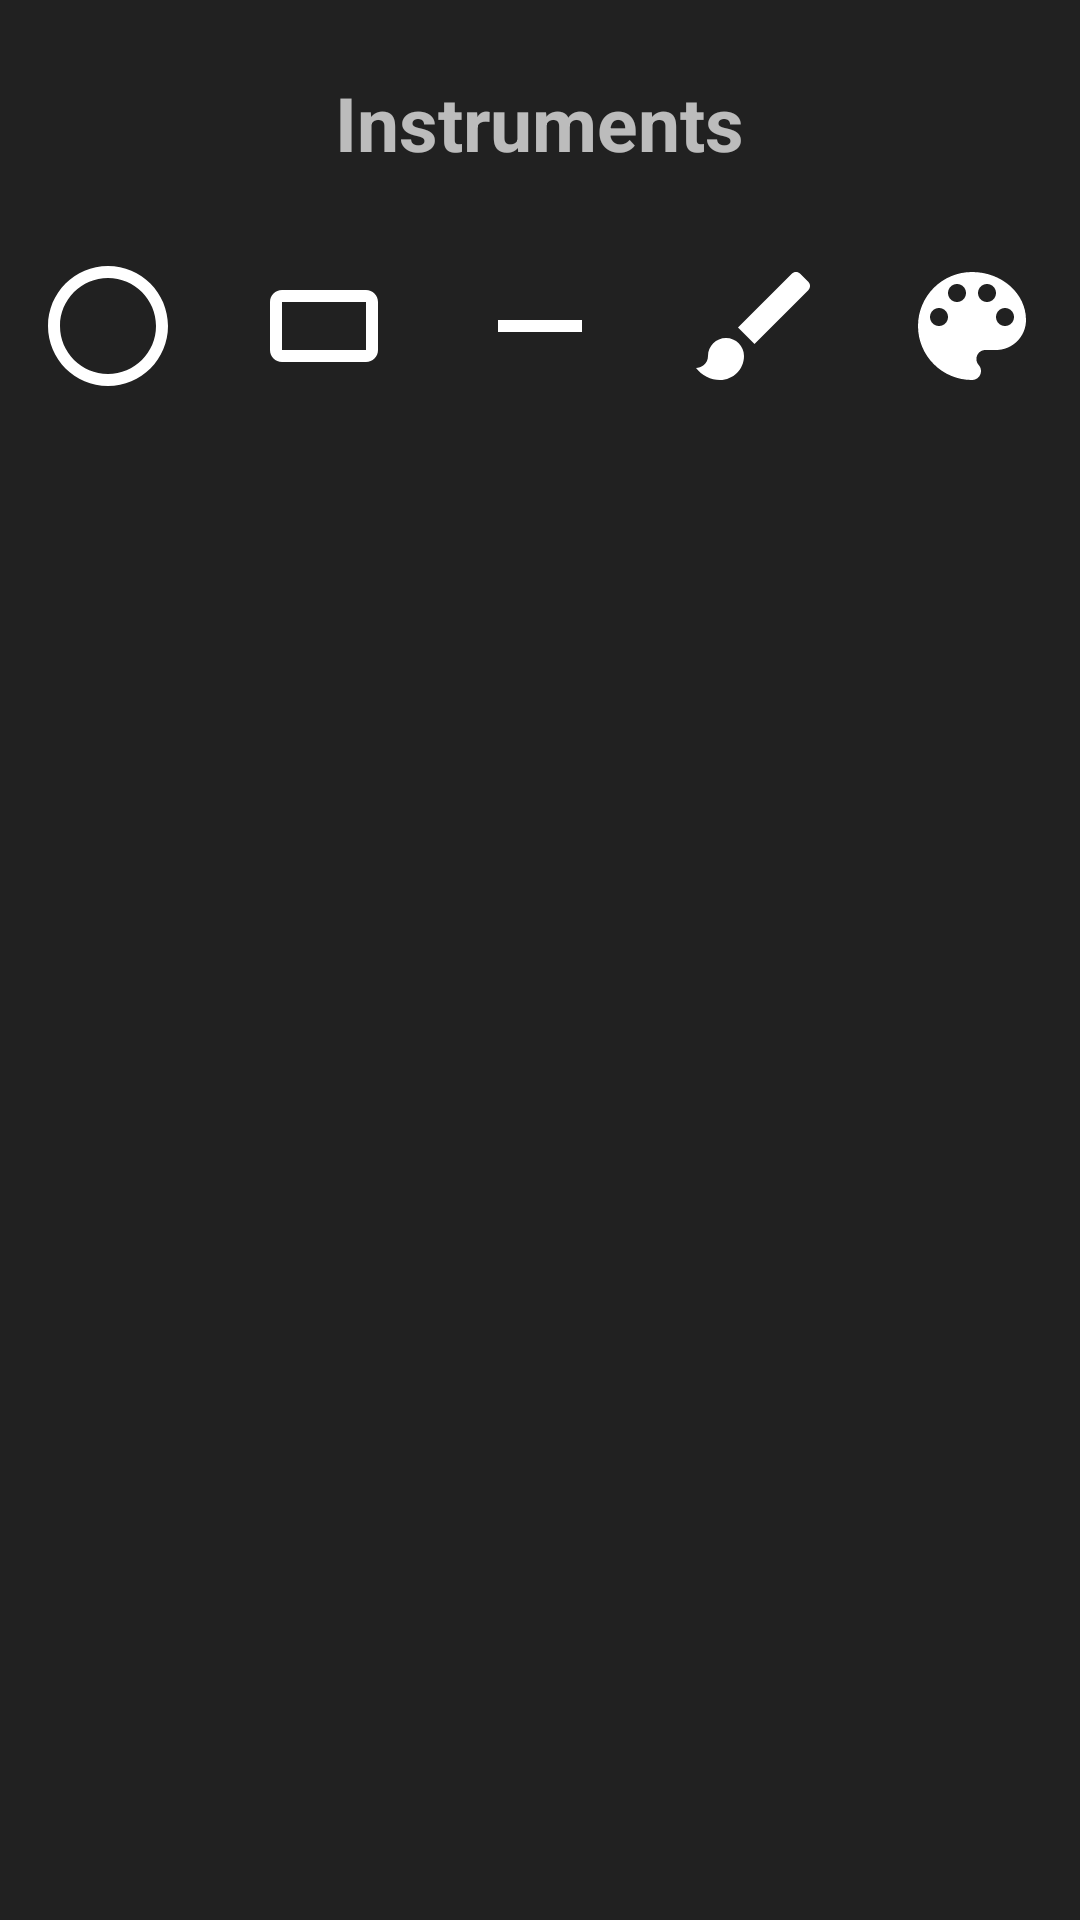

Icon bounding boxes for this 1080px x 1920px phone screenshot, format bbox=(x1, y1, x2, y2):
brush: bbox=(696, 272, 810, 380)
circle: bbox=(48, 266, 168, 386)
pallete: bbox=(918, 272, 1026, 380)
